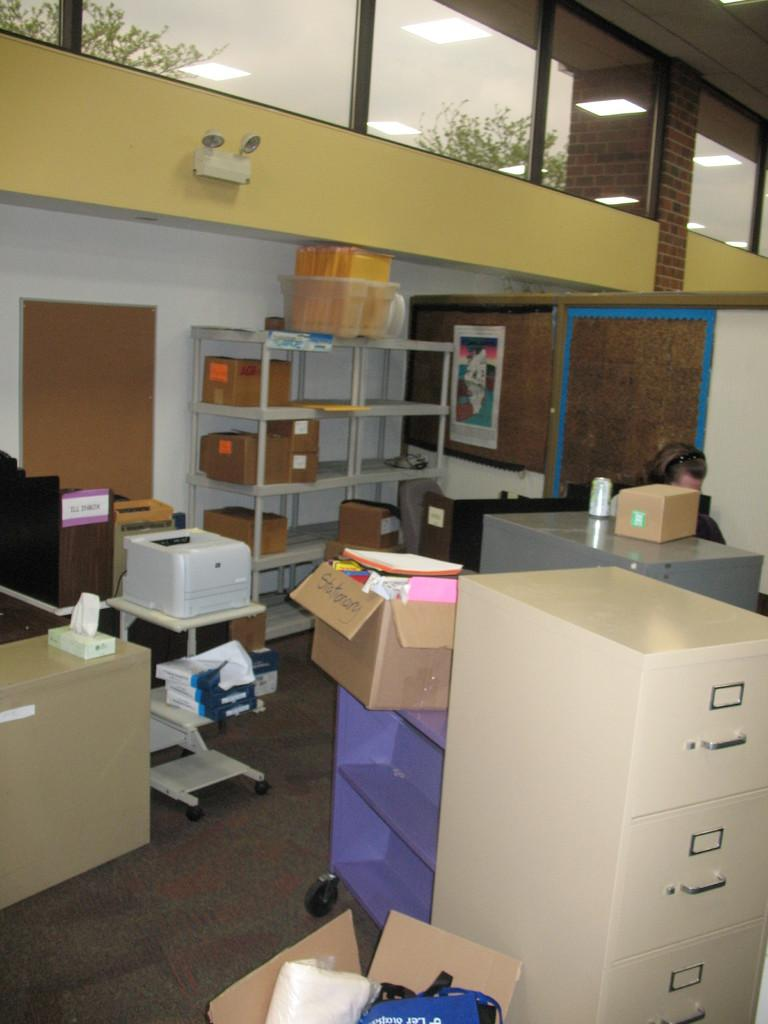cabinet_door: (647, 666, 768, 788), (633, 825, 766, 913), (622, 960, 746, 1024)
handle: (676, 869, 728, 903), (700, 726, 748, 762), (662, 1006, 710, 1024)
